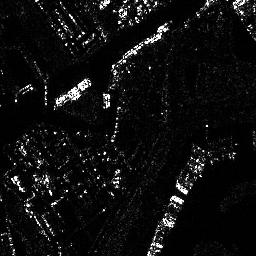ship: (52, 76, 93, 103)
